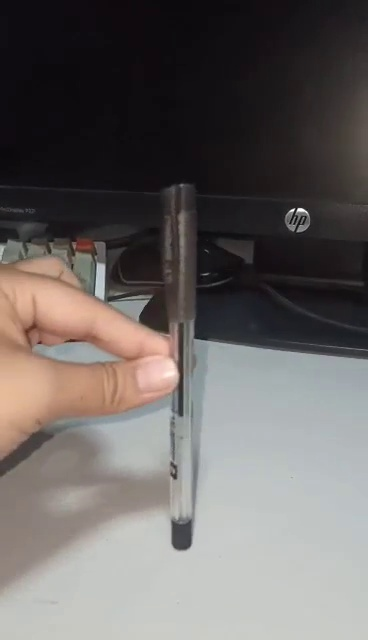ballpen: (157, 168, 204, 560)
hand: (1, 257, 178, 461)
